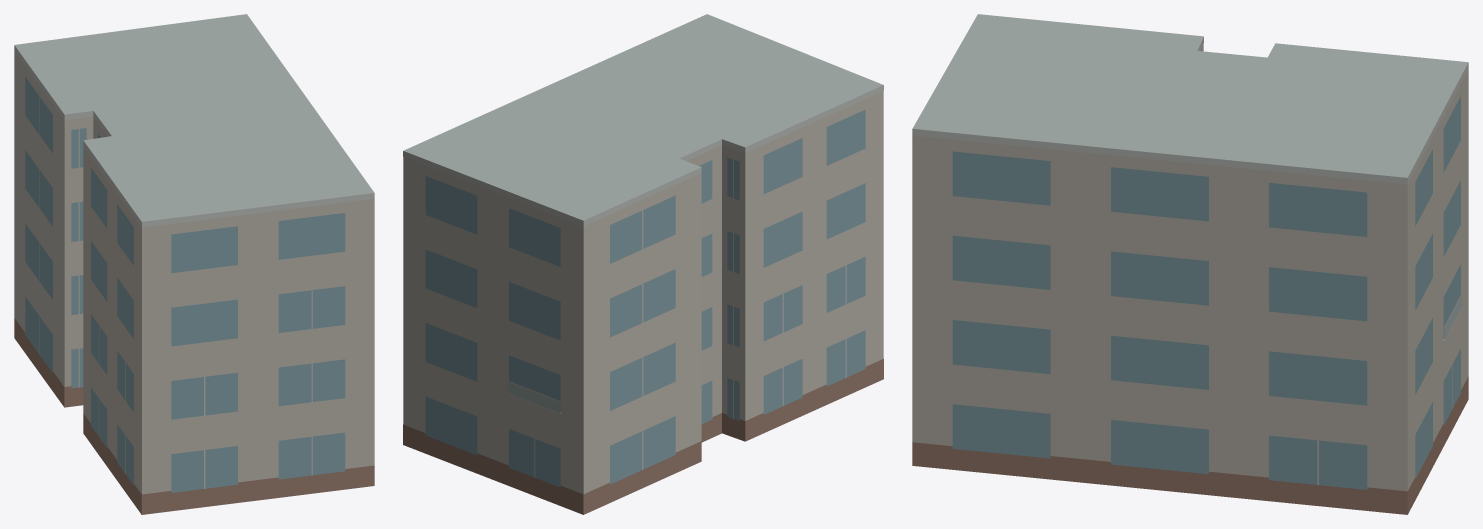
File: survey-upis-32830299.glb
3 views of the same model, side by side, from view 1: azimuth 30°, elevation 25°; view 2: azimuth 150°, elevation 25°; view 3: azimuth 270°, elevation 25° (orthographic). The views are drawn at different scales.
Visible parts, largest first — view 1: survey-upis-32830299.tmp; view 2: survey-upis-32830299.tmp; view 3: survey-upis-32830299.tmp.
Boxes of the visible parts, left/top/right/bottom form: survey-upis-32830299.tmp: left=14, top=14, right=374, bottom=514; survey-upis-32830299.tmp: left=403, top=14, right=883, bottom=514; survey-upis-32830299.tmp: left=912, top=14, right=1468, bottom=514.
Size of the model in its own units: 12.86 by 12.32 by 18.44.
